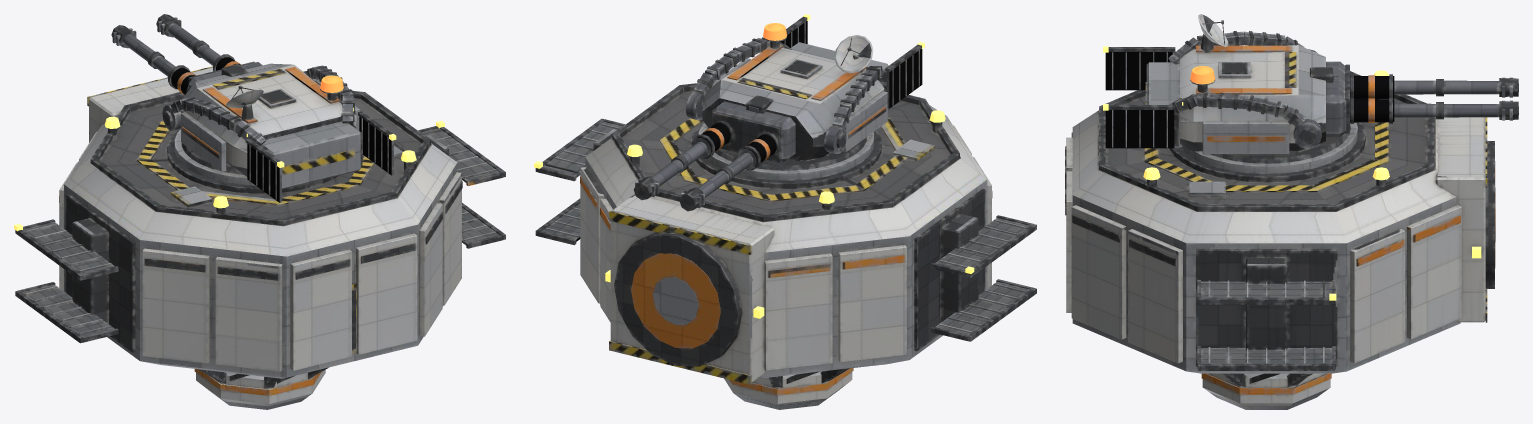
The model's file is defense_turret.glb.
3 views of the same model, side by side, from view 1: azimuth 30°, elevation 25°; view 2: azimuth 150°, elevation 25°; view 3: azimuth 270°, elevation 25° (orthographic). The views are drawn at different scales.
Parts seen in each view (by area): view 1: turret_base, turret_yaw, turret_pitch; view 2: turret_base, turret_yaw, turret_pitch; view 3: turret_base, turret_yaw, turret_pitch.
Boxes of the visible parts, x1=… form: turret_base: x1=14, y1=66, x2=505, y2=409; turret_yaw: x1=162, y1=63, x2=396, y2=202; turret_pitch: x1=111, y1=14, x2=262, y2=94; turret_base: x1=534, y1=83, x2=1036, y2=409; turret_yaw: x1=685, y1=14, x2=924, y2=180; turret_pitch: x1=633, y1=95, x2=795, y2=211; turret_base: x1=1065, y1=70, x2=1495, y2=409; turret_yaw: x1=1103, y1=14, x2=1357, y2=173; turret_pitch: x1=1310, y1=61, x2=1518, y2=136.
Bounding box in the file's own units: 22.9 × 17.24 × 19.88.
Materials: 4 (1 with a texture image).
